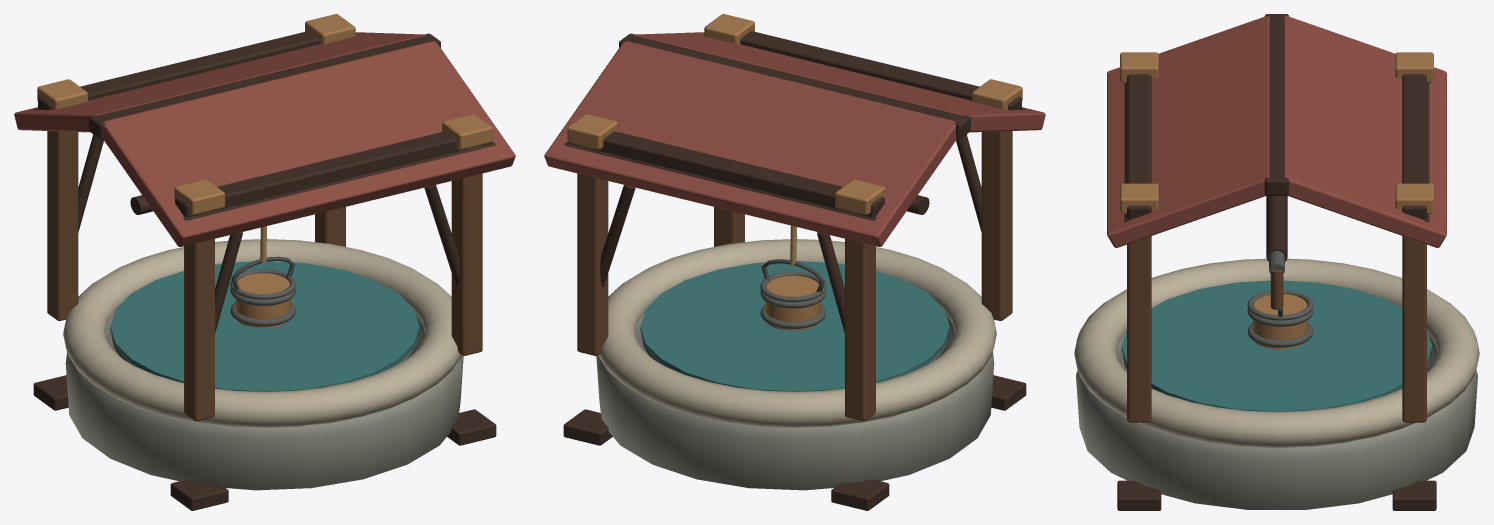
The model's file is detail_town_well.glb.
3 views of the same model, side by side, from view 1: azimuth 30°, elevation 25°; view 2: azimuth 150°, elevation 25°; view 3: azimuth 270°, elevation 25° (orthographic).
Visible parts, largest first — view 1: wood, stone, object 5, metal; view 2: wood, stone, object 5, metal; view 3: wood, stone, object 5, metal.
Boxes of the visible parts, box(x1,y1,x2,y2) form: wood: box(14, 14, 515, 510); stone: box(65, 269, 463, 490); object 5: box(110, 261, 419, 391); metal: box(230, 288, 295, 326); wood: box(544, 14, 1045, 510); stone: box(596, 271, 994, 490); object 5: box(640, 261, 949, 391); metal: box(760, 290, 825, 328); wood: box(1074, 14, 1479, 510); stone: box(1076, 251, 1477, 509); object 5: box(1121, 280, 1432, 411); metal: box(1247, 308, 1313, 347).
Size of the model in its own units: 2.8 by 2.6 by 2.8.
